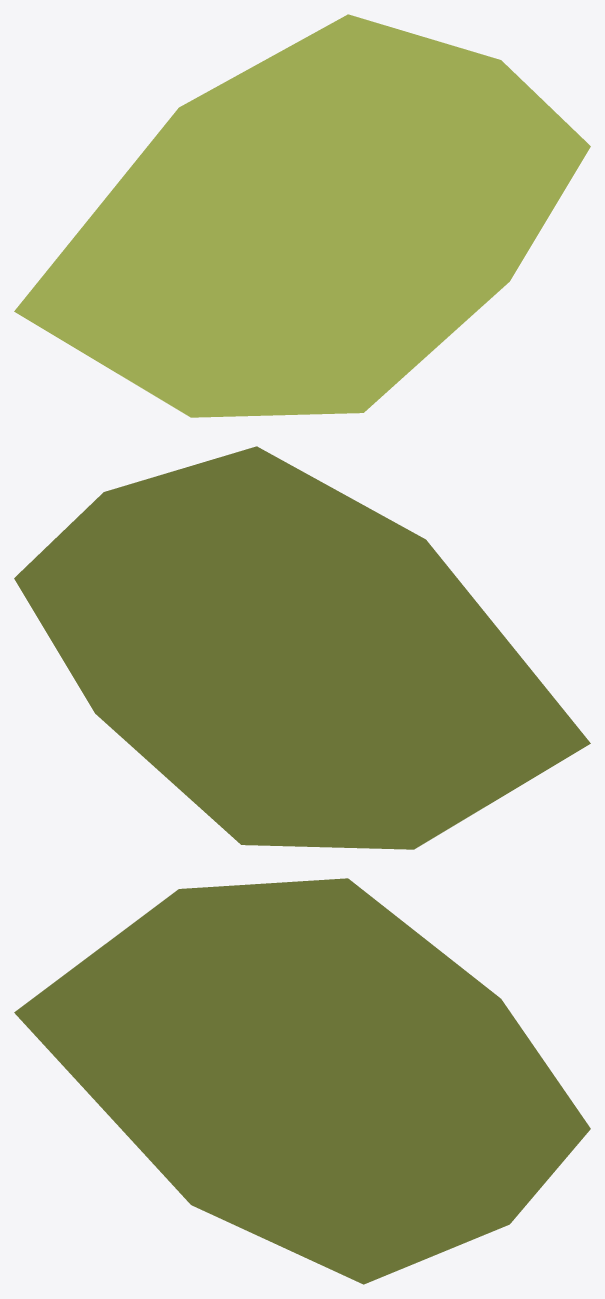
Rendered from LeafBigTree3.glb.
The picture shows the model from 3 angles, top to bottom: view 1: azimuth 30°, elevation 25°; view 2: azimuth 150°, elevation 25°; view 3: azimuth 330°, elevation 25°; orthographic projection.
Parts seen in each view (by area): view 1: Leaf_YellowGreen_Wide.157; view 2: Leaf_YellowGreen_Wide.157; view 3: Leaf_YellowGreen_Wide.157.
Part boxes in pixels (x1,y1,x2,y2): Leaf_YellowGreen_Wide.157: [14, 14, 590, 417]; Leaf_YellowGreen_Wide.157: [14, 446, 590, 849]; Leaf_YellowGreen_Wide.157: [14, 878, 590, 1284].
Bounding box in the file's own units: 0.4453 × 0.2969 × 0.
